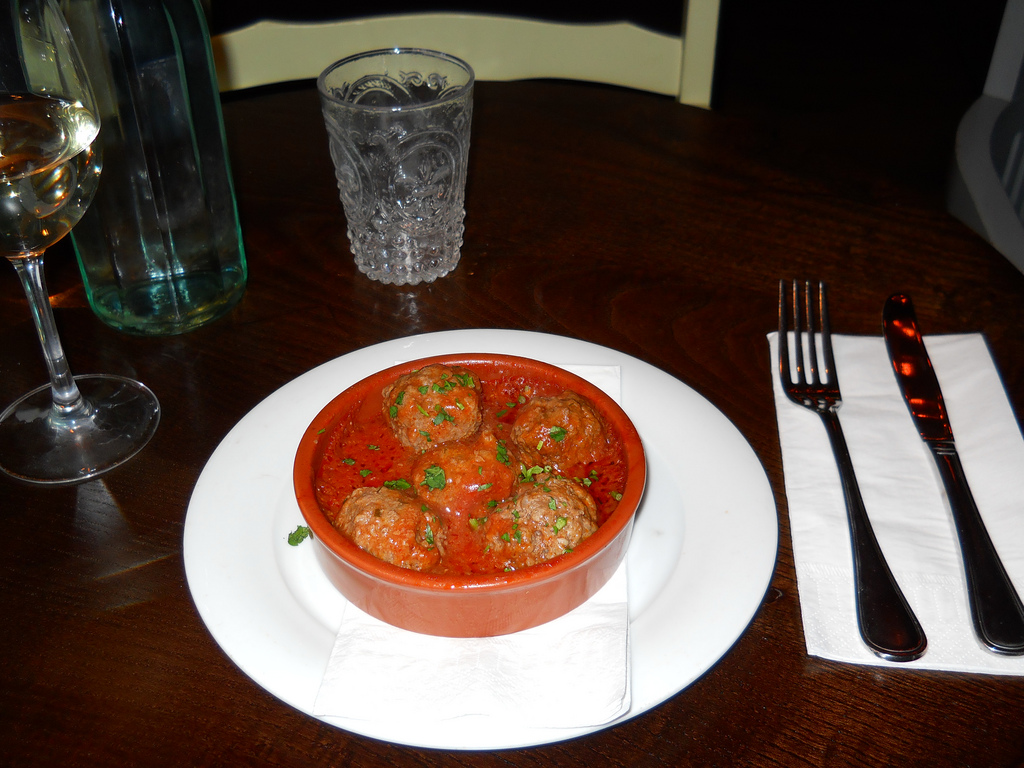glass of water: (36, 35, 267, 301), (1, 30, 97, 474), (313, 54, 492, 274)
meatballs: (497, 474, 601, 559), (405, 444, 505, 527), (349, 480, 432, 578), (382, 372, 482, 446), (514, 391, 593, 476)
